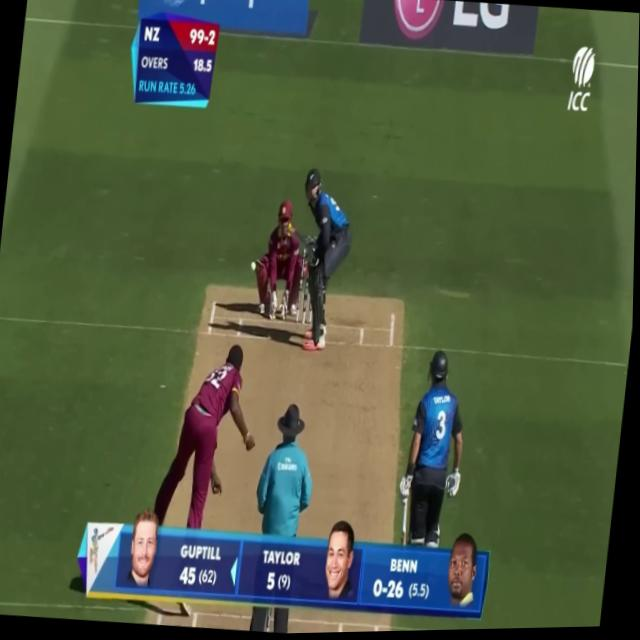Batsman: (282, 154, 367, 360)
